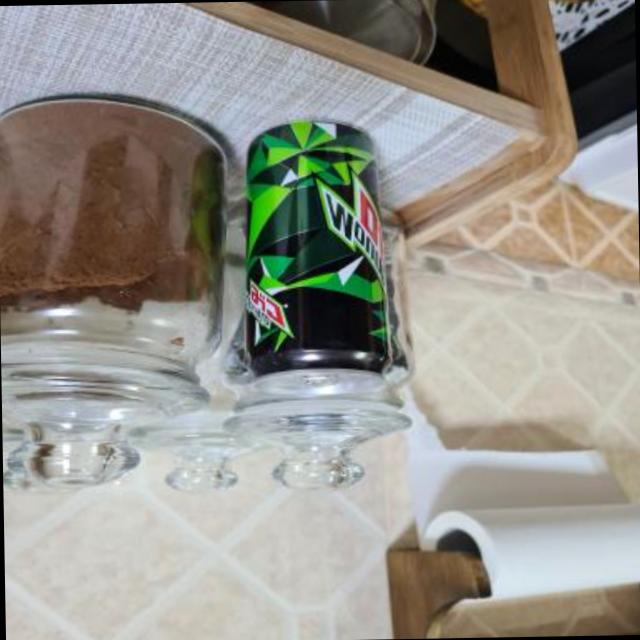metal: (249, 122, 386, 398)
